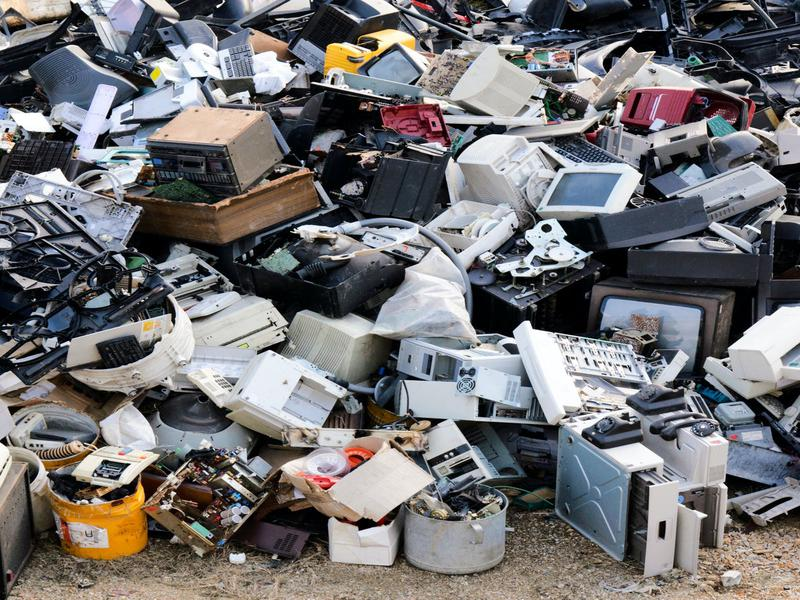keyboard: (212, 41, 259, 79)
tv_pc: (533, 160, 645, 223), (356, 42, 434, 89)
